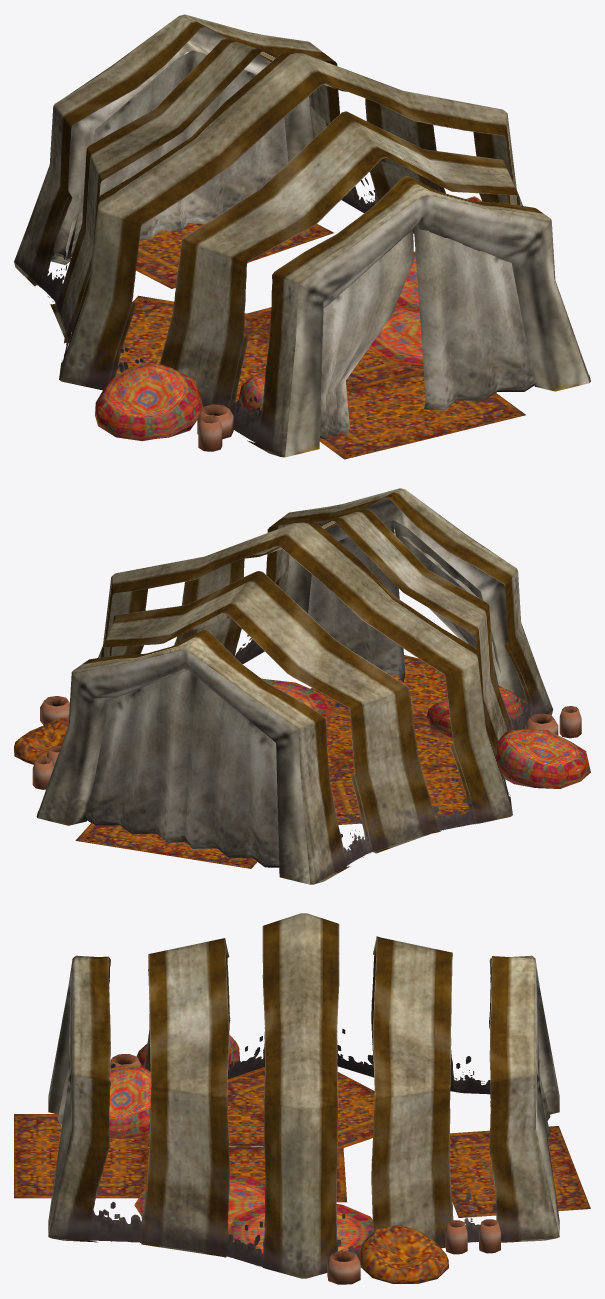
Rendered from build-tent.glb.
The picture shows the model from 3 angles, top to bottom: view 1: azimuth 30°, elevation 25°; view 2: azimuth 150°, elevation 25°; view 3: azimuth 270°, elevation 25°; orthographic projection. The views are drawn at different scales.
Bounding box in the file's own units: 0.4357 × 0.2122 × 0.44.
1 material, 1 textured.
